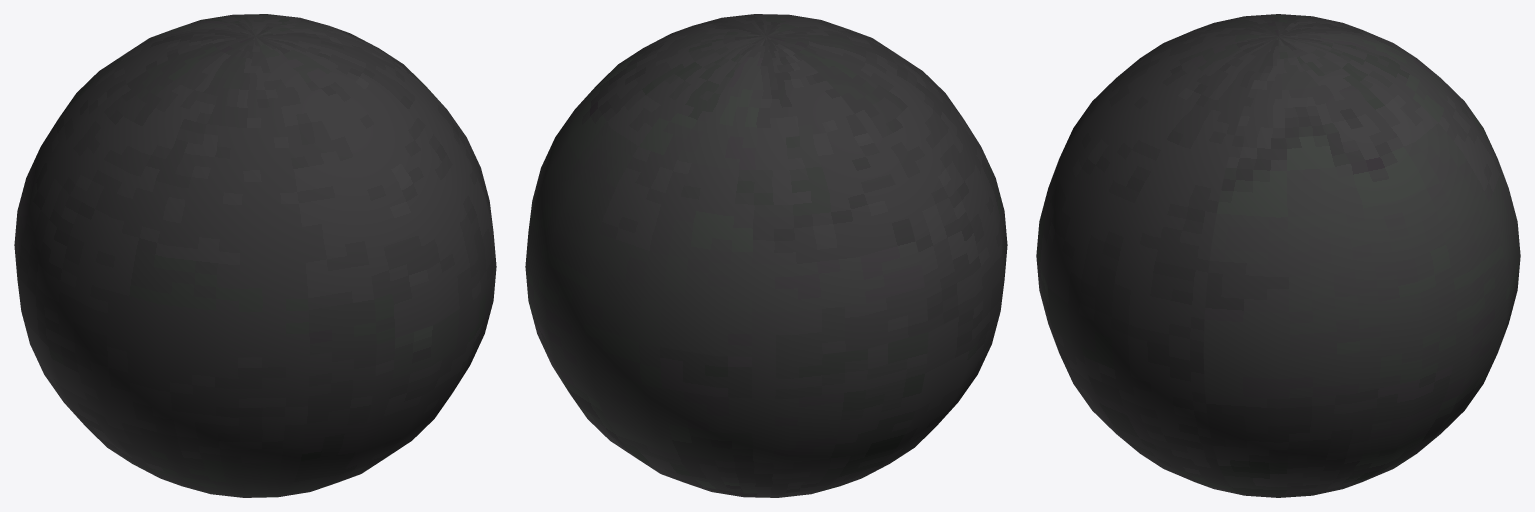
File: dw_orb_vision.dae
3 views of the same model, side by side, from view 1: azimuth 30°, elevation 25°; view 2: azimuth 150°, elevation 25°; view 3: azimuth 270°, elevation 25° (orthographic).
Visible parts, largest first — view 1: dw_orb_vision; view 2: dw_orb_vision; view 3: dw_orb_vision.
Boxes of the visible parts, x1,y1,x2,y2 form: dw_orb_vision: (14, 14, 496, 497); dw_orb_vision: (525, 14, 1007, 497); dw_orb_vision: (1036, 14, 1520, 497).
Size of the model in its own units: 16.89 by 16.89 by 16.89.
